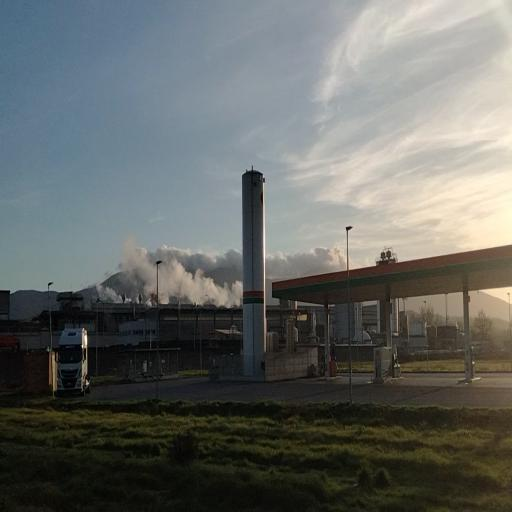leakage: (96, 233, 245, 313)
